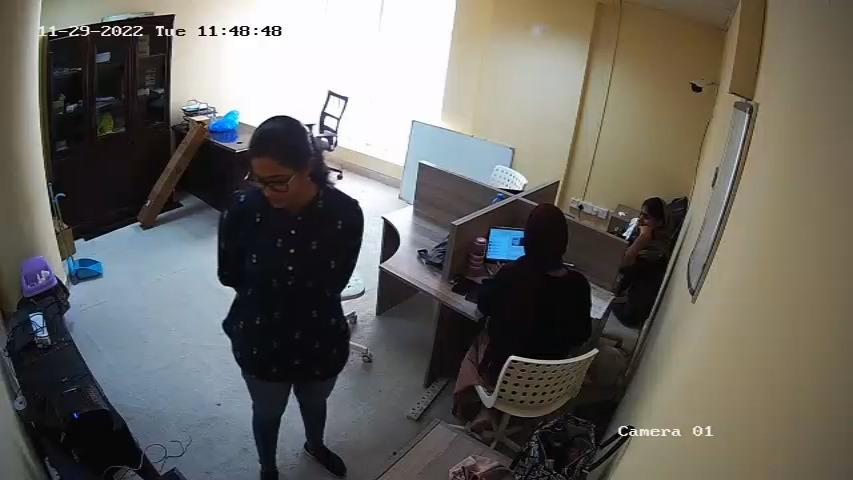no_apron: (234, 203, 332, 406)
